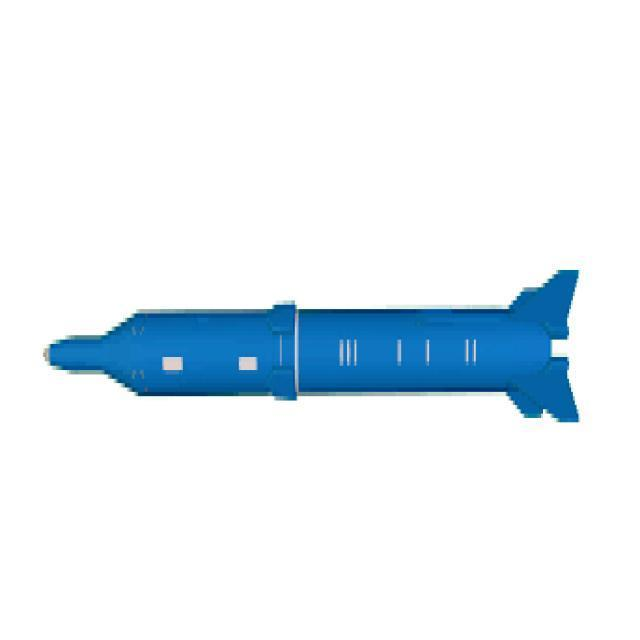missile: (34, 238, 590, 440)
